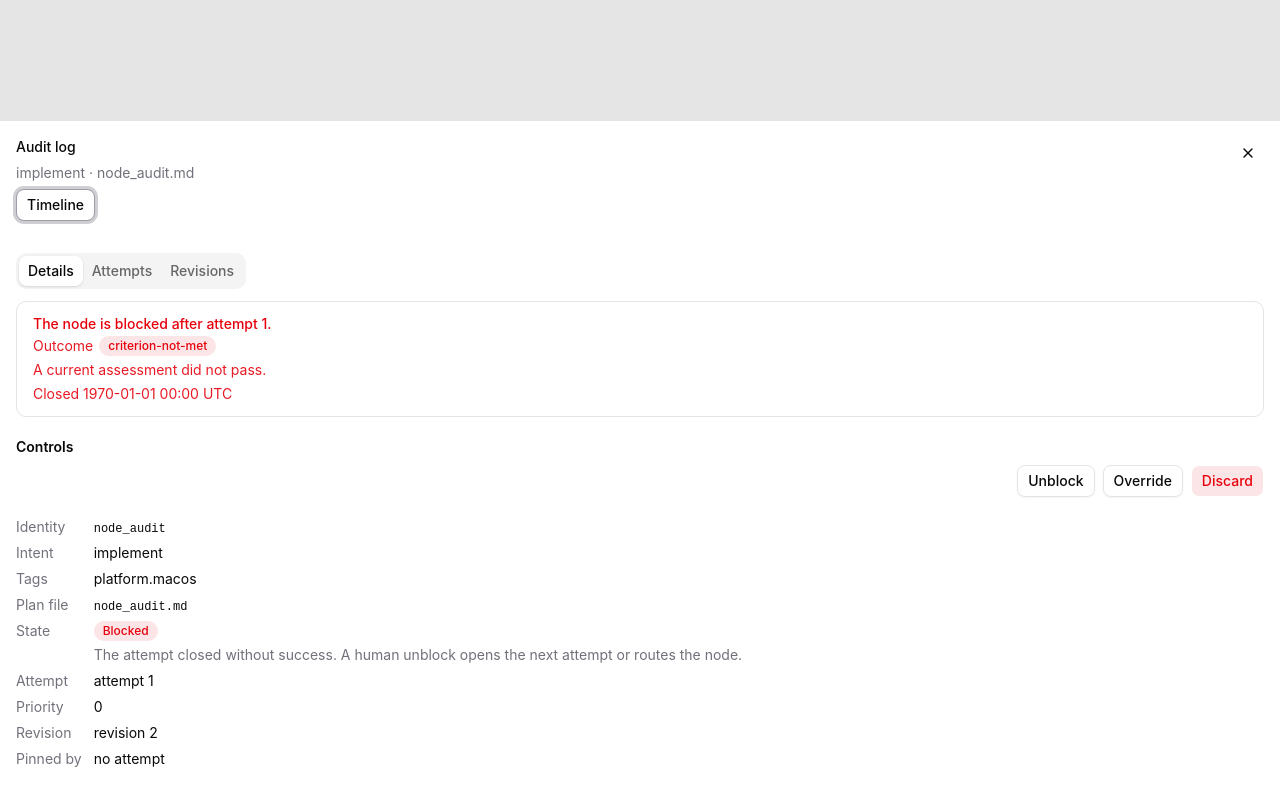
Test case: NodeSheet › shows the stop reason of an execution in the records of an attempt
Click the tab "Attempts": (122, 271) [83,256,161,286]
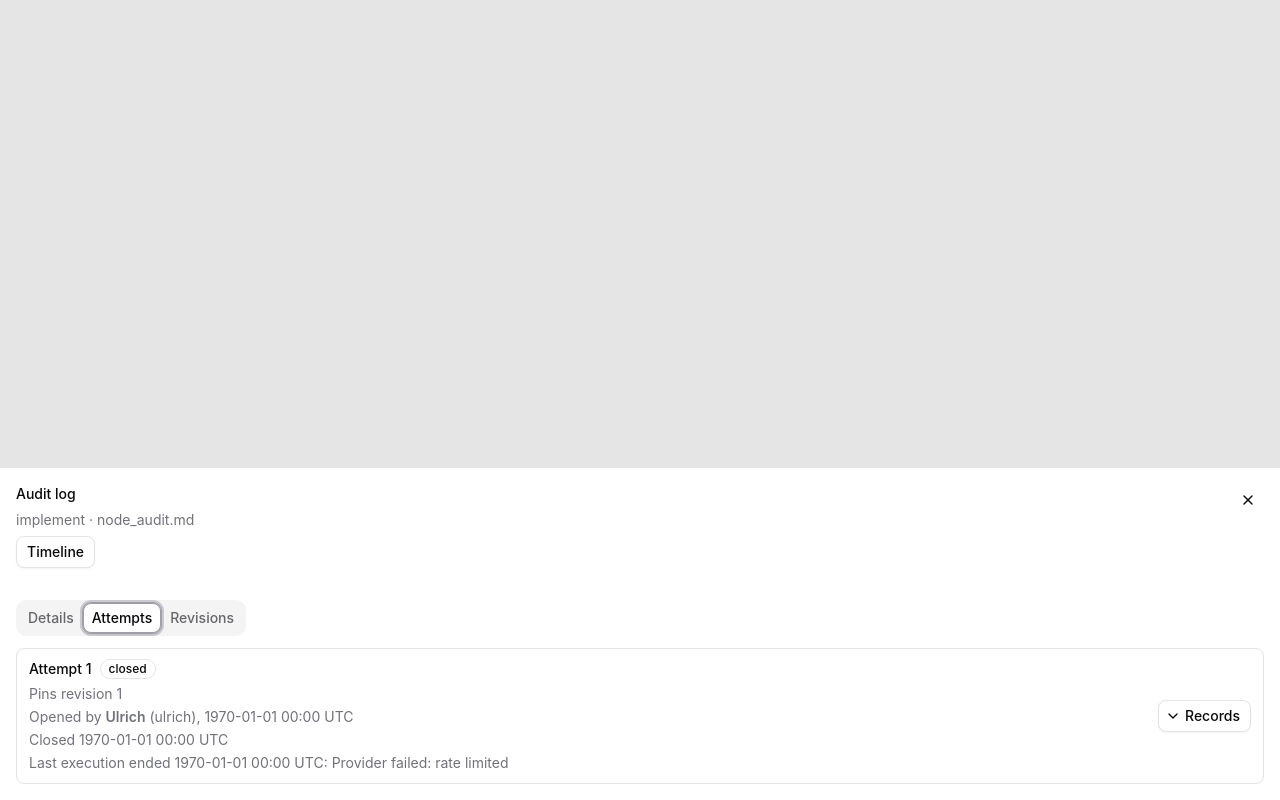
Click the button with aria-label "Records of attempt 1": (1204, 716) [1158,700,1251,732]
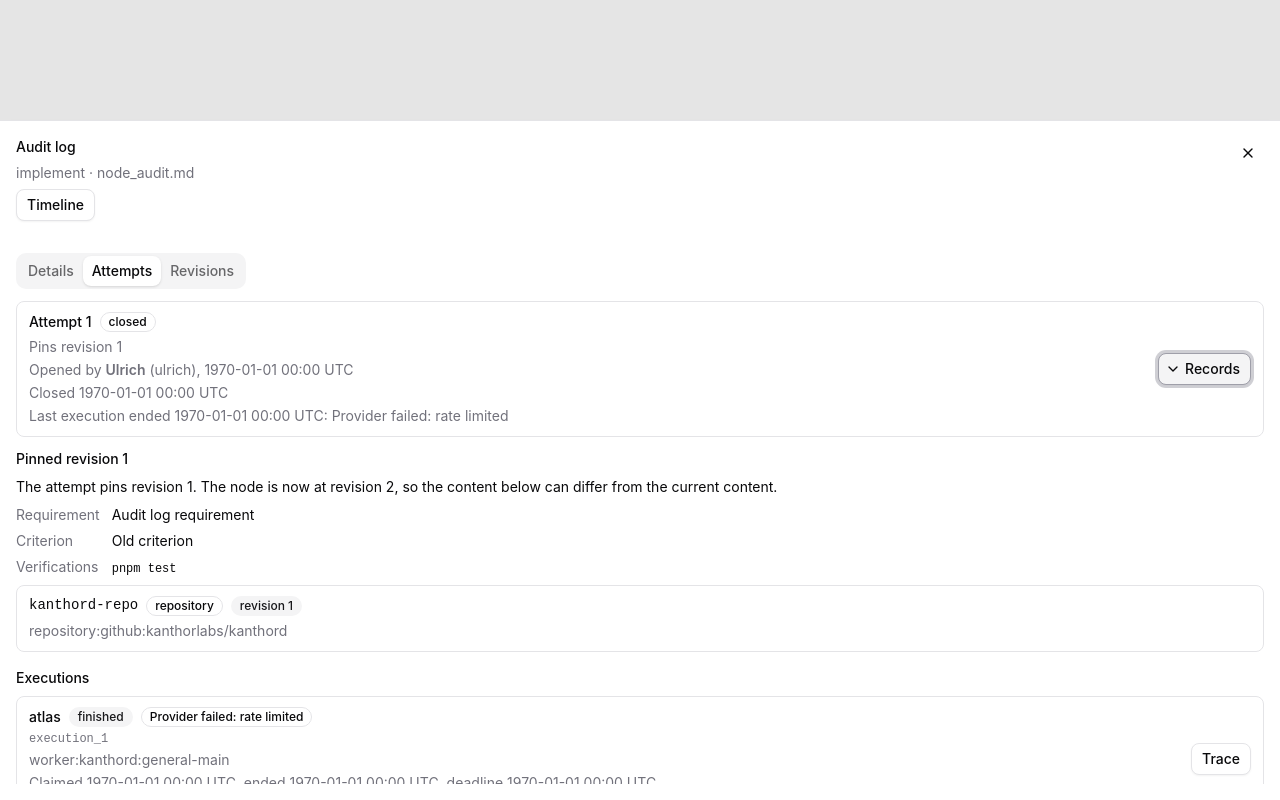
Now the text "Provider failed: rate limited" is shown, box [141,707,312,727]
